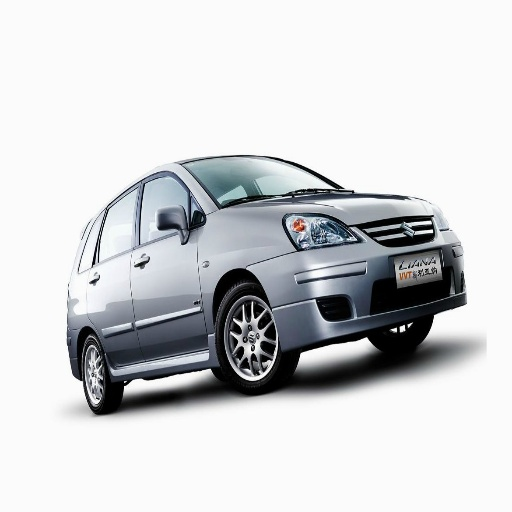front_bumper: (267, 217, 462, 342)
front_right_door: (132, 170, 205, 359)
front_right_light: (283, 208, 357, 249)
